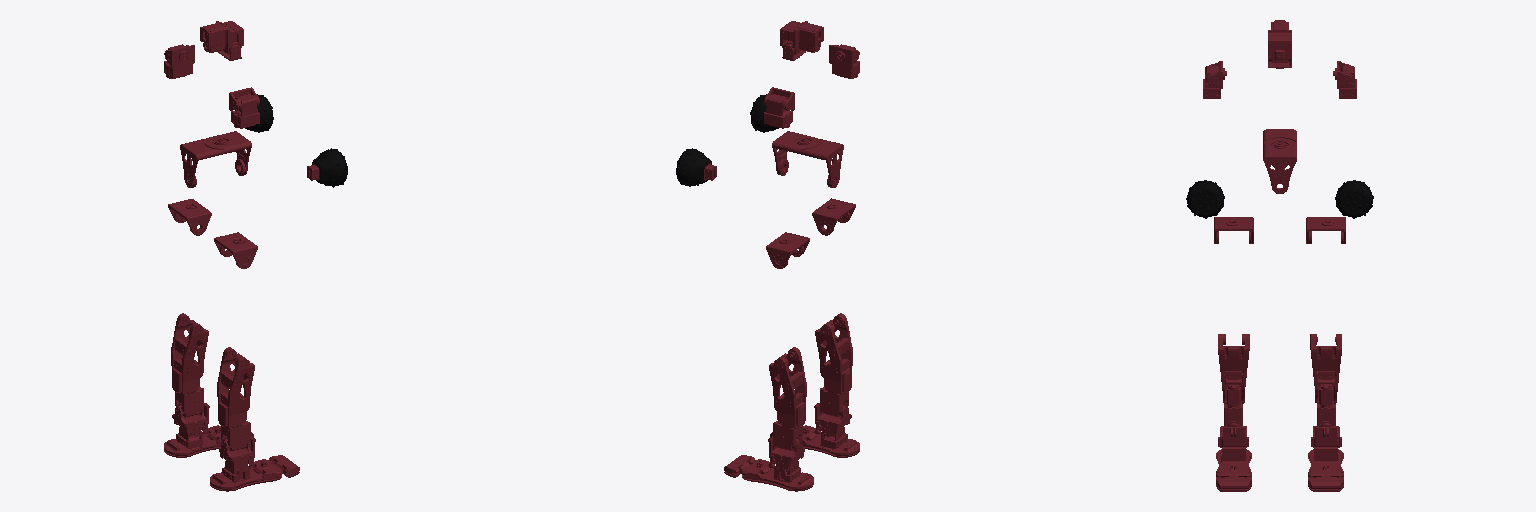
--- Facts derived from the render (not from the file) ---
3 views of the same robot in one strip: view 1: azimuth 30°, elevation 25°; view 2: azimuth 150°, elevation 25°; view 3: azimuth 270°, elevation 25° (orthographic).
Robot: adam1_servo — 29 links, 28 joints (12 revolute, 16 fixed); root link pelvis_link; default pose: every joint at zero.
Visible links, largest first — view 1: right_knee_link, left_knee_link, torso_roll_link, right_ankle_pitch_link, left_ankle_pitch_link, right_hand_link, head_pitch_link, right_hip_yaw_link, left_hip_yaw_link, right_shoulder_roll_link, left_ankle_roll_link, right_ankle_roll_link (+1 smaller); view 2: left_knee_link, right_knee_link, torso_roll_link, left_ankle_pitch_link, right_ankle_pitch_link, left_hand_link, head_pitch_link, left_hip_yaw_link, right_hip_yaw_link, left_shoulder_roll_link, right_ankle_roll_link, left_ankle_roll_link (+1 smaller); view 3: right_knee_link, left_knee_link, torso_roll_link, left_ankle_pitch_link, right_ankle_pitch_link, right_hand_link, left_hand_link, head_pitch_link, left_hip_yaw_link, right_hip_yaw_link, left_ankle_roll_link, right_ankle_roll_link.
Link boxes in pixels (x1,y1,x2,y2): right_knee_link: [217, 347, 254, 450]; left_knee_link: [171, 313, 208, 417]; torso_roll_link: [180, 131, 251, 187]; right_ankle_pitch_link: [210, 455, 299, 491]; left_ankle_pitch_link: [164, 425, 253, 457]; right_hand_link: [307, 148, 347, 187]; head_pitch_link: [200, 21, 243, 54]; right_hip_yaw_link: [214, 232, 257, 268]; left_hip_yaw_link: [168, 199, 211, 235]; right_shoulder_roll_link: [231, 94, 259, 128]; left_ankle_roll_link: [172, 403, 209, 436]; right_ankle_roll_link: [219, 437, 255, 470]; left_knee_link: [769, 347, 806, 450]; right_knee_link: [815, 313, 852, 417]; torso_roll_link: [772, 131, 843, 187]; left_ankle_pitch_link: [724, 455, 813, 491]; right_ankle_pitch_link: [770, 425, 859, 457]; left_hand_link: [676, 148, 716, 186]; head_pitch_link: [780, 21, 823, 54]; left_hip_yaw_link: [766, 232, 809, 268]; right_hip_yaw_link: [812, 198, 855, 235]; left_shoulder_roll_link: [764, 94, 792, 128]; right_ankle_roll_link: [814, 403, 851, 436]; left_ankle_roll_link: [768, 436, 804, 470]; right_knee_link: [1218, 334, 1249, 426]; left_knee_link: [1310, 334, 1341, 426]; torso_roll_link: [1263, 129, 1296, 193]; left_ankle_pitch_link: [1308, 447, 1343, 491]; right_ankle_pitch_link: [1216, 447, 1251, 491]; right_hand_link: [1186, 180, 1224, 218]; left_hand_link: [1335, 180, 1373, 218]; head_pitch_link: [1268, 20, 1291, 62]; left_hip_yaw_link: [1306, 217, 1345, 243]; right_hip_yaw_link: [1214, 217, 1253, 243]; left_ankle_roll_link: [1311, 423, 1341, 447]; right_ankle_roll_link: [1218, 423, 1248, 447].
Bounding box of the posed robot: 0.2383 × 0.332 × 0.8567 m (x, y, z).
Meshes: 30 distinct files referenced, 19 mesh visuals loaded (18 OBJ); not drawn: 12 (reference not matched to a file when rendering).

URDF robot description (adam1_servo):
<robot name="adam1_servo" version="1.0">
  <joint name="left_hip_roll_joint" type="revolute">
    <limit lower="-0.10000" upper="0.69000" effort="6.86000" velocity="7.48000"/>
    <origin rpy="0.00000 0.00000 0.00000" xyz="0.02870 0.02438 0.04900"/>
    <parent link="pelvis_link"/>
    <child link="left_hip_roll_link"/>
    <axis xyz="1.00000 0.00000 0.00000"/>
  </joint>
  <joint name="left_hip_yaw_joint" type="revolute">
    <limit lower="-0.76000" upper="0.76000" effort="6.86000" velocity="7.48000"/>
    <origin rpy="0.00000 0.00000 0.00000" xyz="-0.02158 0.05996 -0.00868"/>
    <parent link="left_hip_roll_link"/>
    <child link="left_hip_yaw_link"/>
    <axis xyz="0.00000 0.00000 1.00000"/>
  </joint>  
  <joint name="left_hip_pitch_joint" type="revolute">
    <limit lower="-1.57000" upper="1.57000" effort="6.86000" velocity="7.48000"/>
    <origin rpy="0.00000 0.00000 0.00000" xyz="-0.00462 0.02548 -0.02670"/>
    <parent link="left_hip_yaw_link"/>
    <child link="left_hip_pitch_link"/>
    <axis xyz="0.00000 1.00000 0.00000"/>
  </joint>
  <joint name="left_knee_joint" type="revolute">
    <limit lower="-1.57000" upper="0.00000" effort="6.86000" velocity="7.48000"/>
    <origin rpy="0.00000 0.00000 0.00000" xyz="-0.00000 -0.00943 -0.20200"/>
    <parent link="left_hip_pitch_link"/>
    <child link="left_knee_link"/>
    <axis xyz="0.00000 -1.00000 0.00000"/>
  </joint>
  <joint name="left_ankle_roll_joint" type="revolute">
    <limit lower="-0.26000" upper="0.26000" effort="1.67000" velocity="6.98000"/>
    <origin rpy="0.00000 0.00000 0.00000" xyz="0.01915 -0.01895 -0.16500"/>
    <parent link="left_knee_link"/>
    <child link="left_ankle_roll_link"/>
    <axis xyz="1.00000 0.00000 0.00000"/>
  </joint>
  <joint name="left_ankle_pitch_joint" type="revolute">
    <limit lower="-0.87000" upper="0.52000" effort="1.67000" velocity="6.98000"/>
    <origin rpy="0.00000 0.00000 0.00000" xyz="-0.01900 0.01895 -0.03500"/>
    <parent link="left_ankle_roll_link"/>
    <child link="left_ankle_pitch_link"/>
    <axis xyz="0.00000 1.00000 0.00000"/>
  </joint>
  <joint name="right_hip_roll_joint" type="revolute">
    <limit lower="-0.69000" upper="0.10000" effort="6.86000" velocity="7.48000"/>
    <origin rpy="0.00000 0.00000 0.00000" xyz="0.02870 -0.02482 0.04897"/>
    <parent link="pelvis_link"/>
    <child link="right_hip_roll_link"/>
    <axis xyz="1.00000 0.00000 0.00000"/>
  </joint>
  <joint name="right_hip_yaw_joint" type="revolute">
    <limit lower="-0.76000" upper="0.76000" effort="6.86000" velocity="7.48000"/>
    <origin rpy="0.00000 0.00000 0.00000" xyz="-0.02158 -0.05996 -0.00867"/>
    <parent link="right_hip_roll_link"/>
    <child link="right_hip_yaw_link"/>
    <axis xyz="0.00000 0.00000 1.00000"/>
  </joint>
  <joint name="right_hip_pitch_joint" type="revolute">
    <limit lower="-1.57000" upper="1.57000" effort="6.86000" velocity="7.48000"/>
    <origin rpy="0.00000 0.00000 0.00000" xyz="-0.00462 -0.02548 -0.02670"/>
    <parent link="right_hip_yaw_link"/>
    <child link="right_hip_pitch_link"/>
    <axis xyz="0.00000 1.00000 0.00000"/>
  </joint>
  <joint name="right_knee_joint" type="revolute">
    <limit lower="-1.97000" upper="0.00000" effort="6.86000" velocity="7.48000"/>
    <origin rpy="0.00000 0.00000 0.00000" xyz="-0.00000 0.00942 -0.20200"/>
    <parent link="right_hip_pitch_link"/>
    <child link="right_knee_link"/>
    <axis xyz="0.00000 -1.00000 0.00000"/>
  </joint>
  <joint name="right_ankle_roll_joint" type="revolute">
    <limit lower="-0.26000" upper="0.26000" effort="1.67000" velocity="6.98000"/>
    <origin rpy="0.00000 0.00000 0.00000" xyz="0.01915 0.01895 -0.16500"/>
    <parent link="right_knee_link"/>
    <child link="right_ankle_roll_link"/>
    <axis xyz="1.00000 0.00000 0.00000"/>
  </joint>
  <joint name="right_ankle_pitch_joint" type="revolute">
    <limit lower="-0.52000" upper="0.87000" effort="1.67000" velocity="6.98000"/>
    <origin rpy="0.00000 0.00000 0.00000" xyz="-0.01900 -0.01895 -0.03500"/>
    <parent link="right_ankle_roll_link"/>
    <child link="right_ankle_pitch_link"/>
    <axis xyz="0.00000 1.00000 0.00000"/>
  </joint>
  <joint name="torso_pitch_joint" type="fixed">
    <limit lower="-0.79000" upper="0.79000" effort="6.86000" velocity="7.48000"/>
    <origin rpy="0.00000 0.00000 0.00000" xyz="0.03300 0.02845 0.11614"/>
    <parent link="pelvis_link"/>
    <child link="torso_pitch_link"/>
    <axis xyz="0.00000 1.00000 0.00000"/>
  </joint>
  <joint name="torso_roll_joint" type="fixed">
    <limit lower="-0.79000" upper="0.79000" effort="6.86000" velocity="7.48000"/>
    <origin rpy="0.00000 0.00000 0.00000" xyz="-0.07470 -0.02870 0.02118"/>
    <parent link="torso_pitch_link"/>
    <child link="torso_roll_link"/>
    <axis xyz="1.00000 0.00000 0.00000"/>
  </joint>
  <joint name="torso_yaw_joint" type="fixed">
    <limit lower="-1.57000" upper="1.57000" effort="6.86000" velocity="7.48000"/>
    <origin rpy="0.00000 0.00000 0.00000" xyz="0.06004 0.00000 0.05978"/>
    <parent link="torso_roll_link"/>
    <child link="torso_yaw_link"/>
    <axis xyz="0.00000 0.00000 1.00000"/>
  </joint>
  <joint name="head_yaw_joint" type="fixed">
    <limit lower="-1.57000" upper="1.57000" effort="1.67000" velocity="6.98000"/>
    <origin rpy="0.00000 0.00000 0.00000" xyz="0.01869 -0.00005 0.16322"/>
    <parent link="torso_yaw_link"/>
    <child link="head_yaw_link"/>
    <axis xyz="0.00000 0.00000 1.00000"/>
  </joint>
  <joint name="head_pitch_joint" type="fixed">
    <limit lower="-1.04000" upper="0.79000" effort="1.67000" velocity="6.98000"/>
    <origin rpy="0.00000 0.00000 0.00000" xyz="0.00000 0.01895 0.01900"/>
    <parent link="head_yaw_link"/>
    <child link="head_pitch_link"/>
    <axis xyz="0.00000 1.00000 0.00000"/>
  </joint>
  <joint name="head_roll_joint" type="fixed">
    <limit lower="-0.79000" upper="0.79000" effort="1.67000" velocity="6.98000"/>
    <origin rpy="0.00000 0.00000 0.00000" xyz="-0.05040 -0.01900 0.01035"/>
    <parent link="head_pitch_link"/>
    <child link="head_roll_link"/>
    <axis xyz="1.00000 0.00000 0.00000"/>
  </joint>
  <joint name="left_shoulder_pitch_joint" type="fixed">
    <limit lower="-3.14000" upper="3.14000" effort="1.67000" velocity="6.98000"/>
    <origin rpy="0.00000 -0.00000 0.00000" xyz="-0.01731 0.09853 0.13050"/>
    <parent link="torso_yaw_link"/>
    <child link="left_shoulder_pitch_link"/>
    <axis xyz="0.00000 1.00000 0.00000"/>
  </joint>
  <joint name="left_shoulder_roll_joint" type="fixed">
    <limit lower="0.00000" upper="3.14000" effort="1.67000" velocity="6.98000"/>
    <origin rpy="0.00000 0.00000 0.00000" xyz="0.01895 0.02129 -0.00200"/>
    <parent link="left_shoulder_pitch_link"/>
    <child link="left_shoulder_roll_link"/>
    <axis xyz="1.00000 0.00000 0.00000"/>
  </joint>
  <joint name="left_shoulder_yaw_joint" type="fixed">
    <limit lower="-0.79000" upper="1.57000" effort="1.67000" velocity="6.98000"/>
    <origin rpy="-0.00000 -0.00000 -0.00000" xyz="-0.03227 0.00000 -0.04000"/>
    <parent link="left_shoulder_roll_link"/>
    <child link="left_shoulder_yaw_link"/>
    <axis xyz="0.00000 0.00000 1.00000"/>
  </joint>
  <joint name="left_elbow_pitch_joint" type="fixed">
    <limit lower="-0.79000" upper="1.57000" effort="1.67000" velocity="6.98000"/>
    <origin rpy="-0.00000 0.00000 0.00000" xyz="0.01425 -0.01941 -0.11783"/>
    <parent link="left_shoulder_yaw_link"/>
    <child link="left_elbow_pitch_link"/>
    <axis xyz="0.00000 1.00000 0.00000"/>
  </joint>
  <joint name="left_hand_joint" type="fixed">
    <limit lower="-3.14000" upper="3.14000" effort="0.00000" velocity="0.00000"/>
    <origin rpy="0.00000 -0.00000 -0.00000" xyz="0.12264 0.03079 -0.00449"/>
    <parent link="left_elbow_pitch_link"/>
    <child link="left_hand_link"/>
    <axis xyz="0.00000 0.00000 1.00000"/>
  </joint>
  <joint name="right_shoulder_pitch_joint" type="fixed">
    <limit lower="-3.14000" upper="3.14000" effort="1.67000" velocity="6.98000"/>
    <origin rpy="0.00000 -0.00000 0.00000" xyz="-0.01731 -0.09863 0.13050"/>
    <parent link="torso_yaw_link"/>
    <child link="right_shoulder_pitch_link"/>
    <axis xyz="0.00000 1.00000 0.00000"/>
  </joint>
  <joint name="right_shoulder_roll_joint" type="fixed">
    <limit lower="-3.14000" upper="0.00000" effort="1.67000" velocity="6.98000"/>
    <origin rpy="0.00000 0.00000 0.00000" xyz="0.01895 -0.02129 -0.00200"/>
    <parent link="right_shoulder_pitch_link"/>
    <child link="right_shoulder_roll_link"/>
    <axis xyz="1.00000 0.00000 0.00000"/>
  </joint>
  <joint name="right_shoulder_yaw_joint" type="fixed">
    <limit lower="-1.57000" upper="0.79000" effort="1.67000" velocity="6.98000"/>
    <origin rpy="0.00000 -0.00000 0.00000" xyz="-0.03227 -0.00000 -0.04000"/>
    <parent link="right_shoulder_roll_link"/>
    <child link="right_shoulder_yaw_link"/>
    <axis xyz="0.00000 0.00000 1.00000"/>
  </joint>
  <joint name="right_elbow_pitch_joint" type="fixed">
    <limit lower="-0.79000" upper="1.57000" effort="1.67000" velocity="6.98000"/>
    <origin rpy="0.00000 0.00000 -0.00000" xyz="0.01425 0.01941 -0.11783"/>
    <parent link="right_shoulder_yaw_link"/>
    <child link="right_elbow_pitch_link"/>
    <axis xyz="0.00000 1.00000 0.00000"/>
  </joint>
  <joint name="right_hand_joint" type="fixed">
    <limit lower="-3.14000" upper="3.14000" effort="0.00000" velocity="0.00000"/>
    <origin rpy="-0.00000 -0.00000 0.00000" xyz="0.12264 -0.03079 -0.00449"/>
    <parent link="right_elbow_pitch_link"/>
    <child link="right_hand_link"/>
    <axis xyz="0.00000 0.00000 1.00000"/>
  </joint>
  <link name="pelvis_link">
    <collision name="pelvis_link_collision">
      <origin rpy="1.57080 0.00000 1.57080" xyz="0.00000 0.00000 0.00000"/>
      <geometry>
        <mesh filename="../meshes/obj/pelvis_link_visual.obj" scale="1.00000 1.00000 1.00000"/>
      </geometry>
    </collision>
    <inertial>
      <inertia ixx="0.00028" ixy="-0.00001" ixz="-0.00006" iyy="0.00028" iyz="-0.00001" izz="0.00014"/>
      <origin rpy="0.00000 0.00000 0.00000" xyz="0.00139 0.00113 0.05161"/>
      <mass value="0.22800"/>
    </inertial>
    <visual name="pelvis_link_visual">
      <material name="ID10"/>
      <origin rpy="1.57080 0.00000 1.57080" xyz="-0.00000 0.00000 0.00000"/>
      <geometry>
        <mesh filename="../meshes/obj/pelvis_link_visual.obj" scale="1.00000 1.00000 1.00000"/>
      </geometry>
    </visual>
  </link>
  <link name="left_hip_roll_link">
    <collision name="left_hip_roll_link_collision">
      <origin rpy="1.57080 0.00000 1.57080" xyz="0.00000 0.00000 0.00000"/>
      <geometry>
        <mesh filename="../meshes/obj/left_hip_roll_link_visual.obj" scale="1.00000 1.00000 1.00000"/>
      </geometry>
    </collision>
    <inertial>
      <inertia ixx="0.00010" ixy="0.00001" ixz="0.00000" iyy="0.00007" iyz="-0.00001" izz="0.00014"/>
      <origin rpy="0.00000 0.00000 0.00000" xyz="-0.02887 0.04588 0.00742"/>
      <mass value="0.11100"/>
    </inertial>
    <visual name="left_hip_roll_link_visual">
      <material name="ID10"/>
      <origin rpy="1.57080 0.00000 1.57080" xyz="0.00000 -0.00000 0.00000"/>
      <geometry>
        <mesh filename="../meshes/obj/left_hip_roll_link_visual.obj" scale="1.00000 1.00000 1.00000"/>
      </geometry>
    </visual>
  </link>
  <link name="right_knee_link">
    <collision name="right_knee_link_collision">
      <origin rpy="1.57080 -0.00000 -1.57080" xyz="0.00000 0.00000 0.00000"/>
      <geometry>
        <mesh filename="../meshes/obj/right_knee_link_visual.obj" scale="1.00000 1.00000 1.00000"/>
      </geometry>
    </collision>
    <inertial>
      <inertia ixx="0.00062" ixy="0.00000" ixz="-0.00002" iyy="0.00061" iyz="0.00000" izz="0.00007"/>
      <origin rpy="0.00000 0.00000 0.00000" xyz="-0.00211 0.01894 -0.08760"/>
      <mass value="0.27900"/>
    </inertial>
    <visual name="right_knee_link_visual">
      <material name="ID10"/>
      <origin rpy="1.57080 0.00000 -1.57080" xyz="0.00000 0.00000 0.00000"/>
      <geometry>
        <mesh filename="../meshes/obj/right_knee_link_visual.obj" scale="1.00000 1.00000 1.00000"/>
      </geometry>
    </visual>
  </link>
  <link name="right_ankle_roll_link">
    <collision name="right_ankle_roll_link_collision">
      <origin rpy="1.57080 0.00000 -1.57080" xyz="0.00000 -0.00000 0.00000"/>
      <geometry>
        <mesh filename="../meshes/obj/right_ankle_roll_link_visual.obj" scale="1.00000 1.00000 1.00000"/>
      </geometry>
    </collision>
    <inertial>
      <inertia ixx="0.00001" ixy="-0.00000" ixz="-0.00000" iyy="0.00001" iyz="0.00000" izz="0.00001"/>
      <origin rpy="0.00000 0.00000 0.00000" xyz="-0.01332 -0.00004 -0.01821"/>
      <mass value="0.03300"/>
    </inertial>
    <visual name="right_ankle_roll_link_visual">
      <material name="ID10"/>
      <origin rpy="1.57080 -0.00000 -1.57080" xyz="0.00000 0.00000 0.00000"/>
      <geometry>
        <mesh filename="../meshes/obj/right_ankle_roll_link_visual.obj" scale="1.00000 1.00000 1.00000"/>
      </geometry>
    </visual>
  </link>
  <link name="right_ankle_pitch_link">
    <collision name="right_ankle_pitch_link_collision">
      <origin rpy="1.57080 -0.00000 -1.57080" xyz="-0.00000 0.00000 0.00000"/>
      <geometry>
        <mesh filename="../meshes/obj/right_ankle_pitch_link_visual.obj" scale="1.00000 1.00000 1.00000"/>
      </geometry>
    </collision>
    <inertial>
      <inertia ixx="0.00008" ixy="-0.00000" ixz="0.00004" iyy="0.00054" iyz="0.00000" izz="0.00055"/>
      <origin rpy="0.00000 0.00000 0.00000" xyz="0.03081 0.01927 -0.03166"/>
      <mass value="0.26000"/>
    </inertial>
    <visual name="right_ankle_pitch_link_visual">
      <material name="ID10"/>
      <origin rpy="1.57080 0.00000 -1.57080" xyz="-0.00000 0.00000 0.00000"/>
      <geometry>
        <mesh filename="../meshes/obj/right_ankle_pitch_link_visual.obj" scale="1.00000 1.00000 1.00000"/>
      </geometry>
    </visual>
  </link>
  <link name="torso_pitch_link">
    <collision name="torso_pitch_link_collision">
      <origin rpy="1.57080 0.00000 1.57080" xyz="0.00000 0.00000 0.00000"/>
      <geometry>
        <mesh filename="../meshes/obj/torso_pitch_link_visual.obj" scale="1.00000 1.00000 1.00000"/>
      </geometry>
    </collision>
    <inertial>
      <inertia ixx="0.00008" ixy="0.00000" ixz="0.00003" iyy="0.00015" iyz="0.00000" izz="0.00012"/>
      <origin rpy="0.00000 0.00000 0.00000" xyz="-0.02162 -0.02991 0.03377"/>
      <mass value="0.15300"/>
    </inertial>
    <visual name="torso_pitch_link_visual">
      <material name="ID10"/>
      <origin rpy="1.57080 0.00000 1.57080" xyz="0.00000 0.00000 0.00000"/>
      <geometry>
        <mesh filename="../meshes/obj/torso_pitch_link_visual.obj" scale="1.00000 1.00000 1.00000"/>
      </geometry>
    </visual>
  </link>
  <link name="torso_roll_link">
    <collision name="torso_roll_link_collision">
      <origin rpy="1.57080 0.00000 1.57080" xyz="-0.00000 -0.00000 0.00000"/>
      <geometry>
        <mesh filename="../meshes/obj/torso_roll_link_visual.obj" scale="1.00000 1.00000 1.00000"/>
      </geometry>
    </collision>
    <inertial>
      <inertia ixx="0.00004" ixy="0.00000" ixz="-0.00001" iyy="0.00011" iyz="0.00000" izz="0.00009"/>
      <origin rpy="0.00000 0.00000 0.00000" xyz="0.05020 -0.00000 0.03796"/>
      <mass value="0.05400"/>
    </inertial>
    <visual name="torso_roll_link_visual">
      <material name="ID10"/>
      <origin rpy="1.57080 0.00000 1.57080" xyz="0.00000 0.00000 0.00000"/>
      <geometry>
        <mesh filename="../meshes/obj/torso_roll_link_visual.obj" scale="1.00000 1.00000 1.00000"/>
      </geometry>
    </visual>
  </link>
  <link name="torso_yaw_link">
    <collision name="torso_yaw_link_collision">
      <origin rpy="1.57080 0.00000 1.57080" xyz="0.00000 -0.00000 0.00000"/>
      <geometry>
        <mesh filename="../meshes/obj/torso_yaw_link_visual.obj" scale="1.00000 1.00000 1.00000"/>
      </geometry>
    </collision>
    <inertial>
      <inertia ixx="0.00757" ixy="-0.00001" ixz="-0.00151" iyy="0.00860" iyz="0.00000" izz="0.01034"/>
      <origin rpy="0.00000 0.00000 0.00000" xyz="-0.02286 -0.00002 0.10185"/>
      <mass value="2.66900"/>
    </inertial>
    <visual name="torso_yaw_link_visual">
      <material name="ID10"/>
      <origin rpy="1.57080 0.00000 1.57080" xyz="0.00000 -0.00000 0.00000"/>
      <geometry>
        <mesh filename="../meshes/obj/torso_yaw_link_visual.obj" scale="1.00000 1.00000 1.00000"/>
      </geometry>
    </visual>
  </link>
  <link name="head_yaw_link">
    <collision name="head_yaw_link_collision">
      <origin rpy="1.57080 0.00000 1.57080" xyz="0.00000 0.00000 0.00000"/>
      <geometry>
        <mesh filename="../meshes/obj/head_yaw_link_visual.obj" scale="1.00000 1.00000 1.00000"/>
      </geometry>
    </collision>
    <inertial>
      <inertia ixx="0.00000" ixy="0.00000" ixz="-0.00000" iyy="0.00000" iyz="-0.00000" izz="0.00000"/>
      <origin rpy="0.00000 0.00000 0.00000" xyz="0.00000 -0.00011 0.00995"/>
      <mass value="0.00700"/>
    </inertial>
    <visual name="head_yaw_link_visual">
      <material name="ID10"/>
      <origin rpy="1.57080 0.00000 1.57080" xyz="0.00000 0.00000 0.00000"/>
      <geometry>
        <mesh filename="../meshes/obj/head_yaw_link_visual.obj" scale="1.00000 1.00000 1.00000"/>
      </geometry>
    </visual>
  </link>
  <link name="head_pitch_link">
    <collision name="head_pitch_link_collision">
      <origin rpy="1.57080 0.00000 1.57080" xyz="0.00000 0.00000 0.00000"/>
      <geometry>
        <mesh filename="../meshes/obj/head_pitch_link_visual.obj" scale="1.00000 1.00000 1.00000"/>
      </geometry>
    </collision>
    <inertial>
      <inertia ixx="0.00022" ixy="-0.00000" ixz="0.00005" iyy="0.00045" iyz="-0.00001" izz="0.00040"/>
      <origin rpy="0.00000 0.00000 0.00000" xyz="-0.01341 -0.01872 0.02093"/>
      <mass value="0.91300"/>
    </inertial>
    <visual name="head_pitch_link_visual">
      <material name="ID10"/>
      <origin rpy="1.57080 0.00000 1.57080" xyz="0.00000 0.00000 0.00000"/>
      <geometry>
        <mesh filename="../meshes/obj/head_pitch_link_visual.obj" scale="1.00000 1.00000 1.00000"/>
      </geometry>
    </visual>
  </link>
  <link name="head_roll_link">
    <collision name="head_roll_link_collision">
      <origin rpy="1.57080 0.00000 1.57080" xyz="0.00000 0.00000 0.00000"/>
      <geometry>
        <mesh filename="../meshes/obj/head_roll_link_visual.obj" scale="1.00000 1.00000 1.00000"/>
      </geometry>
    </collision>
    <inertial>
      <inertia ixx="0.00030" ixy="0.00001" ixz="0.00003" iyy="0.00027" iyz="-0.00001" izz="0.00028"/>
      <origin rpy="0.00000 0.00000 0.00000" xyz="0.04527 -0.00064 0.05106"/>
      <mass value="0.20600"/>
    </inertial>
    <visual name="head_roll_link_visual">
      <material name="ID10"/>
      <origin rpy="1.57080 0.00000 1.57080" xyz="0.00000 0.00000 0.00000"/>
      <geometry>
        <mesh filename="../meshes/obj/head_roll_link_visual.obj" scale="1.00000 1.00000 1.00000"/>
      </geometry>
    </visual>
  </link>
  <link name="left_shoulder_pitch_link">
    <collision name="left_shoulder_pitch_link_collision">
      <origin rpy="3.14159 -0.00000 1.57080" xyz="0.00000 0.00000 0.00000"/>
      <geometry>
        <mesh filename="../meshes/obj/left_shoulder_pitch_link_visual.obj" scale="1.00000 1.00000 1.00000"/>
      </geometry>
    </collision>
    <inertial>
      <inertia ixx="0.00000" ixy="-0.00000" ixz="0.00000" iyy="0.00000" iyz="-0.00000" izz="0.00000"/>
      <origin rpy="0.00000 0.00000 0.00000" xyz="0.00005 0.00922 -0.00183"/>
      <mass value="0.01200"/>
    </inertial>
    <visual name="left_shoulder_pitch_link_visual">
      <material name="ID10"/>
      <origin rpy="-3.14159 -0.00000 1.57080" xyz="0.00000 0.00000 0.00000"/>
      <geometry>
        <mesh filename="../meshes/obj/left_shoulder_pitch_link_visual.obj" scale="1.00000 1.00000 1.00000"/>
      </geometry>
    </visual>
  </link>
  <link name="left_hip_yaw_link">
    <collision name="left_hip_yaw_link_collision">
      <origin rpy="1.57080 0.00001 1.57080" xyz="0.00000 0.00000 0.00000"/>
      <geometry>
        <mesh filename="../meshes/obj/left_hip_yaw_link_visual.obj" scale="1.00000 1.00000 1.00000"/>
      </geometry>
    </collision>
    <inertial>
      <inertia ixx="0.00003" ixy="-0.00000" ixz="0.00000" iyy="0.00001" iyz="0.00000" izz="0.00002"/>
      <origin rpy="0.00000 0.00000 0.00000" xyz="-0.00450 -0.00222 -0.01543"/>
      <mass value="0.03200"/>
    </inertial>
    <visual name="left_hip_yaw_link_visual">
      <material name="ID10"/>
      <origin rpy="1.57080 0.00001 1.57080" xyz="0.00000 0.00000 0.00000"/>
      <geometry>
        <mesh filename="../meshes/obj/left_hip_yaw_link_visual.obj" scale="1.00000 1.00000 1.00000"/>
      </geometry>
    </visual>
  </link>
  <link name="left_shoulder_roll_link">
    <collision name="left_shoulder_roll_link_collision">
      <origin rpy="1.57080 1.57080 0.00000" xyz="0.00000 0.00000 0.00000"/>
      <geometry>
        <mesh filename="../meshes/obj/left_shoulder_roll_link_visual.obj" scale="1.00000 1.00000 1.00000"/>
      </geometry>
    </collision>
    <inertial>
      <inertia ixx="0.00013" ixy="0.00000" ixz="-0.00000" iyy="0.00007" iyz="0.00002" izz="0.00010"/>
      <origin rpy="0.00000 0.00000 0.00000" xyz="-0.02050 0.00000 -0.02149"/>
      <mass value="0.36800"/>
    </inertial>
    <visual name="left_shoulder_roll_link_visual">
      <material name="ID10"/>
      <origin rpy="1.57080 1.57080 0.00000" xyz="0.00000 0.00000 0.00000"/>
      <geometry>
        <mesh filename="../meshes/obj/left_shoulder_roll_link_visual.obj" scale="1.00000 1.00000 1.00000"/>
      </geometry>
    </visual>
  </link>
  <link name="left_shoulder_yaw_link">
    <collision name="left_shoulder_yaw_link_collision">
      <origin rpy="-1.57080 0.00000 -1.57080" xyz="0.00000 0.00000 -0.00000"/>
      <geometry>
        <mesh filename="../meshes/obj/left_shoulder_yaw_link_visual.obj" scale="1.00000 1.00000 1.00000"/>
      </geometry>
    </collision>
    <inertial>
      <inertia ixx="0.00052" ixy="0.00000" ixz="0.00000" iyy="0.00012" iyz="-0.00000" izz="0.00050"/>
      <origin rpy="0.00000 0.00000 0.00000" xyz="0.01432 0.00005 -0.05788"/>
      <mass value="0.39400"/>
    </inertial>
    <visual name="left_shoulder_yaw_link_visual">
      <material name="ID10"/>
      <origin rpy="-1.57080 -0.00000 -1.57080" xyz="0.00000 0.00000 -0.00000"/>
      <geometry>
        <mesh filename="../meshes/obj/left_shoulder_yaw_link_visual.obj" scale="1.00000 1.00000 1.00000"/>
      </geometry>
    </visual>
  </link>
  <link name="left_elbow_pitch_link">
    <collision name="left_elbow_pitch_link_collision">
      <origin rpy="0.00000 -0.00000 -1.57080" xyz="-0.00000 0.00000 -0.00000"/>
      <geometry>
        <mesh filename="../meshes/obj/left_elbow_pitch_link_visual.obj" scale="1.00000 1.00000 1.00000"/>
      </geometry>
    </collision>
    <inertial>
      <inertia ixx="0.00029" ixy="0.00003" ixz="0.00000" iyy="0.00005" iyz="-0.00002" izz="0.00031"/>
      <origin rpy="0.00000 0.00000 0.00000" xyz="0.05050 0.02373 -0.00880"/>
      <mass value="0.17000"/>
    </inertial>
    <visual name="left_elbow_pitch_link_visual">
      <material name="ID10"/>
      <origin rpy="0.00000 -0.00000 -1.57080" xyz="-0.00000 0.00000 -0.00000"/>
      <geometry>
        <mesh filename="../meshes/obj/left_elbow_pitch_link_visual.obj" scale="1.00000 1.00000 1.00000"/>
      </geometry>
    </visual>
  </link>
  <link name="left_hand_link">
    <visual name="left_gloves_link_visual">
      <material name="ID32"/>
      <origin rpy="1.57080 0.00000 -0.00000" xyz="0.00000 -0.00000 -0.00000"/>
      <geometry>
        <mesh filename="../meshes/obj/ID26.obj" scale="1.00000 1.00000 1.00000"/>
      </geometry>
    </visual>
    <visual name="left_hand_link_visual">
      <material name="ID10"/>
      <origin rpy="1.57080 0.00000 -0.00000" xyz="0.00000 -0.00000 -0.00000"/>
      <geometry>
        <mesh filename="../meshes/obj/ID535.obj" scale="1.00000 1.00000 1.00000"/>
      </geometry>
    </visual>
  </link>
  <link name="right_shoulder_pitch_link">
    <collision name="right_shoulder_pitch_link_collision">
      <origin rpy="3.14159 -0.00000 1.57080" xyz="0.00000 -0.00000 -0.00000"/>
      <geometry>
        <mesh filename="../meshes/obj/right_shoulder_pitch_link_visual.obj" scale="1.00000 1.00000 1.00000"/>
      </geometry>
    </collision>
    <inertial>
      <inertia ixx="0.00000" ixy="0.00000" ixz="0.00000" iyy="0.00000" iyz="0.00000" izz="0.00000"/>
      <origin rpy="0.00000 0.00000 0.00000" xyz="0.00005 -0.00922 -0.00183"/>
      <mass value="0.01200"/>
    </inertial>
    <visual name="right_shoulder_pitch_link_visual">
      <material name="ID10"/>
      <origin rpy="-3.14159 -0.00000 1.57080" xyz="0.00000 -0.00000 -0.00000"/>
      <geometry>
        <mesh filename="../meshes/obj/right_shoulder_pitch_link_visual.obj" scale="1.00000 1.00000 1.00000"/>
      </geometry>
    </visual>
  </link>
  <link name="right_shoulder_roll_link">
    <collision name="right_shoulder_roll_link_collision">
      <origin rpy="-1.57080 -1.57080 0.00000" xyz="0.00000 0.00000 -0.00000"/>
      <geometry>
        <mesh filename="../meshes/obj/right_shoulder_roll_link_visual.obj" scale="1.00000 1.00000 1.00000"/>
      </geometry>
    </collision>
    <inertial>
      <inertia ixx="0.00013" ixy="-0.00000" ixz="-0.00000" iyy="0.00007" iyz="-0.00002" izz="0.00010"/>
      <origin rpy="0.00000 0.00000 0.00000" xyz="-0.02050 0.00000 -0.02149"/>
      <mass value="0.36800"/>
    </inertial>
    <visual name="right_shoulder_roll_link_visual">
      <material name="ID10"/>
      <origin rpy="-1.57080 -1.57080 0.00000" xyz="0.00000 0.00000 -0.00000"/>
      <geometry>
        <mesh filename="../meshes/obj/right_shoulder_roll_link_visual.obj" scale="1.00000 1.00000 1.00000"/>
      </geometry>
    </visual>
  </link>
  <link name="right_shoulder_yaw_link">
    <collision name="right_shoulder_yaw_link_collision">
      <origin rpy="1.57080 -0.00000 1.57080" xyz="0.00000 0.00000 -0.00000"/>
      <geometry>
        <mesh filename="../meshes/obj/right_shoulder_yaw_link_visual.obj" scale="1.00000 1.00000 1.00000"/>
      </geometry>
    </collision>
    <inertial>
      <inertia ixx="0.00052" ixy="-0.00000" ixz="0.00000" iyy="0.00012" iyz="0.00000" izz="0.00051"/>
      <origin rpy="0.00000 0.00000 0.00000" xyz="0.01432 -0.00005 -0.05788"/>
      <mass value="0.39400"/>
    </inertial>
    <visual name="right_shoulder_yaw_link_visual">
      <material name="ID10"/>
      <origin rpy="1.57080 -0.00000 1.57080" xyz="0.00000 0.00000 -0.00000"/>
      <geometry>
        <mesh filename="../meshes/obj/right_shoulder_yaw_link_visual.obj" scale="1.00000 1.00000 1.00000"/>
      </geometry>
    </visual>
  </link>
  <link name="right_elbow_pitch_link">
    <collision name="right_elbow_pitch_link_collision">
      <origin rpy="-0.00000 -0.00000 1.57080" xyz="-0.00000 -0.00000 0.00000"/>
      <geometry>
        <mesh filename="../meshes/obj/right_elbow_pitch_link_visual.obj" scale="1.00000 1.00000 1.00000"/>
      </geometry>
    </collision>
    <inertial>
      <inertia ixx="0.00029" ixy="-0.00003" ixz="0.00000" iyy="0.00005" iyz="0.00002" izz="0.00030"/>
      <origin rpy="0.00000 0.00000 0.00000" xyz="0.05050 -0.02373 -0.00880"/>
      <mass value="0.17000"/>
    </inertial>
    <visual name="right_elbow_pitch_link_visual">
      <material name="ID10"/>
      <origin rpy="-0.00000 -0.00000 1.57080" xyz="-0.00000 0.00000 0.00000"/>
      <geometry>
        <mesh filename="../meshes/obj/right_elbow_pitch_link_visual.obj" scale="1.00000 1.00000 1.00000"/>
      </geometry>
    </visual>
  </link>
  <link name="right_hand_link">
    <visual name="right_gloves_link_visual">
      <material name="ID32"/>
      <origin rpy="-1.57080 0.00000 0.00000" xyz="0.00000 -0.00000 0.00000"/>
      <geometry>
        <mesh filename="../meshes/obj/ID26.obj" scale="1.00000 1.00000 1.00000"/>
      </geometry>
    </visual>
    <visual name="right_hand_link_visual">
      <material name="ID10"/>
      <origin rpy="1.57080 -0.00000 -3.14159" xyz="0.00000 -0.00000 0.00000"/>
      <geometry>
        <mesh filename="../meshes/obj/ID516.obj" scale="1.00000 1.00000 1.00000"/>
      </geometry>
    </visual>
  </link>
  <link name="left_hip_pitch_link">
    <collision name="left_hip_pitch_link_collision">
      <origin rpy="1.57080 -0.00001 -1.57080" xyz="0.00000 0.00000 -0.00000"/>
      <geometry>
        <mesh filename="../meshes/obj/left_hip_pitch_link_visual.obj" scale="1.00000 1.00000 1.00000"/>
      </geometry>
    </collision>
    <inertial>
      <inertia ixx="0.00084" ixy="0.00000" ixz="0.00002" iyy="0.00081" iyz="-0.00001" izz="0.00006"/>
      <origin rpy="0.00000 0.00000 0.00000" xyz="0.00095 -0.02965 -0.08431"/>
      <mass value="0.21600"/>
    </inertial>
    <visual name="left_hip_pitch_link_visual">
      <material name="ID10"/>
      <origin rpy="1.57080 -0.00001 -1.57080" xyz="0.00000 0.00000 0.00000"/>
      <geometry>
        <mesh filename="../meshes/obj/left_hip_pitch_link_visual.obj" scale="1.00000 1.00000 1.00000"/>
      </geometry>
    </visual>
  </link>
  <link name="left_knee_link">
    <collision name="left_knee_link_collision">
      <origin rpy="1.57080 -0.00001 -1.57080" xyz="0.00000 -0.00000 0.00000"/>
      <geometry>
        <mesh filename="../meshes/obj/left_knee_link_visual.obj" scale="1.00000 1.00000 1.00000"/>
      </geometry>
    </collision>
    <inertial>
      <inertia ixx="0.00059" ixy="-0.00000" ixz="-0.00002" iyy="0.00059" iyz="-0.00000" izz="0.00007"/>
      <origin rpy="0.00000 0.00000 0.00000" xyz="-0.00216 -0.01894 -0.08946"/>
      <mass value="0.27900"/>
    </inertial>
    <visual name="left_knee_link_visual">
      <material name="ID10"/>
      <origin rpy="1.57080 -0.00001 -1.57080" xyz="0.00000 0.00000 0.00000"/>
      <geometry>
        <mesh filename="../meshes/obj/left_knee_link_visual.obj" scale="1.00000 1.00000 1.00000"/>
      </geometry>
    </visual>
  </link>
  <link name="left_ankle_roll_link">
    <collision name="left_ankle_roll_link_collision">
      <origin rpy="1.57080 0.00001 1.57080" xyz="0.00000 0.00000 0.00000"/>
      <geometry>
        <mesh filename="../meshes/obj/left_ankle_roll_link_visual.001.obj" scale="1.00000 1.00000 1.00000"/>
      </geometry>
    </collision>
    <inertial>
      <inertia ixx="0.00001" ixy="0.00000" ixz="-0.00000" iyy="0.00001" iyz="-0.00000" izz="0.00001"/>
      <origin rpy="0.00000 0.00000 0.00000" xyz="-0.01358 0.00002 -0.01832"/>
      <mass value="0.03300"/>
    </inertial>
    <visual name="left_ankle_roll_link_visual">
      <material name="ID10"/>
      <origin rpy="1.57080 0.00001 1.57080" xyz="0.00000 0.00000 0.00000"/>
      <geometry>
        <mesh filename="../meshes/obj/left_ankle_roll_link_visual.001.obj" scale="1.00000 1.00000 1.00000"/>
      </geometry>
    </visual>
  </link>
  <link name="left_ankle_pitch_link">
    <collision name="left_ankle_pitch_link_collision">
      <origin rpy="1.57080 0.00001 1.57080" xyz="-0.00000 0.00000 0.00000"/>
      <geometry>
        <mesh filename="../meshes/obj/left_ankle_pitch_link_visual.obj" scale="1.00000 1.00000 1.00000"/>
      </geometry>
    </collision>
    <inertial>
      <inertia ixx="0.00008" ixy="-0.00001" ixz="0.00004" iyy="0.00054" iyz="0.00000" izz="0.00055"/>
      <origin rpy="0.00000 0.00000 0.00000" xyz="0.03078 -0.01922 -0.03167"/>
      <mass value="0.26000"/>
    </inertial>
    <visual name="left_ankle_pitch_link_visual">
      <material name="ID10"/>
      <origin rpy="1.57080 0.00001 1.57080" xyz="-0.00000 0.00000 0.00000"/>
      <geometry>
        <mesh filename="../meshes/obj/left_ankle_pitch_link_visual.obj" scale="1.00000 1.00000 1.00000"/>
      </geometry>
    </visual>
  </link>
  <link name="right_hip_roll_link">
    <collision name="right_hip_roll_link_collision">
      <origin rpy="1.57080 -0.34907 1.57080" xyz="0.00000 -0.00000 0.00000"/>
      <geometry>
        <mesh filename="../meshes/obj/right_hip_roll_link_visual.obj" scale="1.00000 1.00000 1.00000"/>
      </geometry>
    </collision>
    <inertial>
      <inertia ixx="0.00009" ixy="-0.00001" ixz="0.00000" iyy="0.00006" iyz="0.00001" izz="0.00012"/>
      <origin rpy="0.00000 0.00000 0.00000" xyz="-0.02882 -0.04587 0.00739"/>
      <mass value="0.11100"/>
    </inertial>
    <visual name="right_hip_roll_link_visual">
      <material name="ID10"/>
      <origin rpy="1.57080 -0.34907 1.57080" xyz="0.00000 0.00000 0.00000"/>
      <geometry>
        <mesh filename="../meshes/obj/right_hip_roll_link_visual.obj" scale="1.00000 1.00000 1.00000"/>
      </geometry>
    </visual>
  </link>
  <link name="right_hip_yaw_link">
    <collision name="right_hip_yaw_link_collision">
      <origin rpy="1.57080 0.00000 1.57080" xyz="0.00000 0.00000 0.00000"/>
      <geometry>
        <mesh filename="../meshes/obj/right_hip_yaw_link_visual.obj" scale="1.00000 1.00000 1.00000"/>
      </geometry>
    </collision>
    <inertial>
      <inertia ixx="0.00003" ixy="0.00000" ixz="0.00000" iyy="0.00001" iyz="-0.00000" izz="0.00002"/>
      <origin rpy="0.00000 0.00000 0.00000" xyz="-0.00450 0.00222 -0.01543"/>
      <mass value="0.03200"/>
    </inertial>
    <visual name="right_hip_yaw_link_visual">
      <material name="ID10"/>
      <origin rpy="1.57080 0.00000 1.57080" xyz="0.00000 0.00000 0.00000"/>
      <geometry>
        <mesh filename="../meshes/obj/right_hip_yaw_link_visual.obj" scale="1.00000 1.00000 1.00000"/>
      </geometry>
    </visual>
  </link>
  <link name="right_hip_pitch_link">
    <collision name="right_hip_pitch_link_collision">
      <origin rpy="1.57080 0.00000 1.57080" xyz="-0.00000 -0.00000 -0.00000"/>
      <geometry>
        <mesh filename="../meshes/obj/right_hip_pitch_link_visual.obj" scale="1.00000 1.00000 1.00000"/>
      </geometry>
    </collision>
    <inertial>
      <inertia ixx="0.00086" ixy="-0.00000" ixz="0.00002" iyy="0.00083" iyz="0.00001" izz="0.00006"/>
      <origin rpy="0.00000 0.00000 0.00000" xyz="0.00132 0.02953 -0.08065"/>
      <mass value="0.21600"/>
    </inertial>
    <visual name="right_hip_pitch_link_visual">
      <material name="ID10"/>
      <origin rpy="1.57080 0.00000 1.57080" xyz="0.00000 0.00000 0.00000"/>
      <geometry>
        <mesh filename="../meshes/obj/right_hip_pitch_link_visual.obj" scale="1.00000 1.00000 1.00000"/>
      </geometry>
    </visual>
  </link>
  <material name="ID10">
    <color rgba="0.44706 0.17647 0.21176 1.00000"/>
  </material>
  <material name="ID32">
    <color rgba="0.09020 0.09020 0.09020 1.00000"/>
  </material>
</robot>
